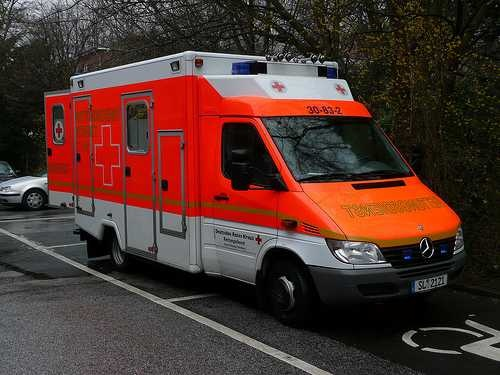Ambulance: (21, 47, 462, 329)
